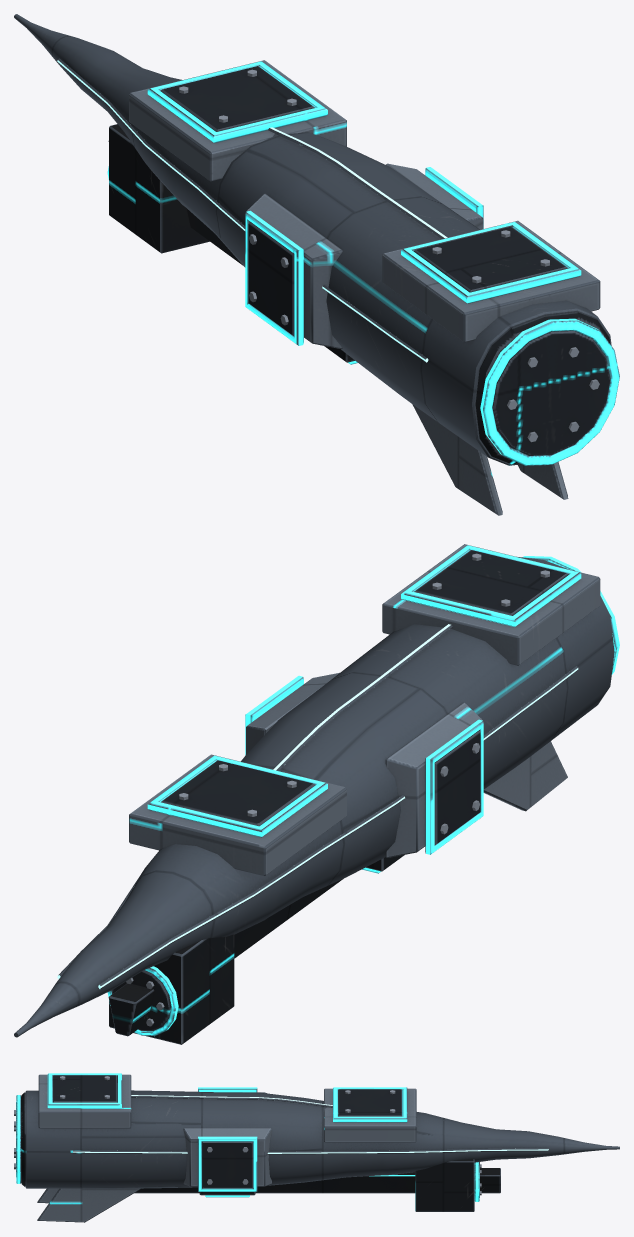
Rendered from casco_interceptor_t3.fbx.
3 renders of one model, top to bottom at view 1: azimuth 30°, elevation 25°; view 2: azimuth 150°, elevation 25°; view 3: azimuth 270°, elevation 25°, orthographic. The views are drawn at different scales.
Visible parts, largest first — view 1: casco_interceptor_t3, casco_interceptor_t3_neon; view 2: casco_interceptor_t3, casco_interceptor_t3_neon; view 3: casco_interceptor_t3, casco_interceptor_t3_neon.
Part boxes in pixels (left/top/right/bottom): casco_interceptor_t3: left=14, top=14, right=619, bottom=515; casco_interceptor_t3_neon: left=57, top=60, right=447, bottom=362; casco_interceptor_t3: left=14, top=544, right=619, bottom=1044; casco_interceptor_t3_neon: left=57, top=624, right=578, bottom=988; casco_interceptor_t3: left=14, top=1073, right=619, bottom=1222; casco_interceptor_t3_neon: left=73, top=1095, right=548, bottom=1153.
Size of the model in its own units: 3.4 by 3.75 by 16.31.
